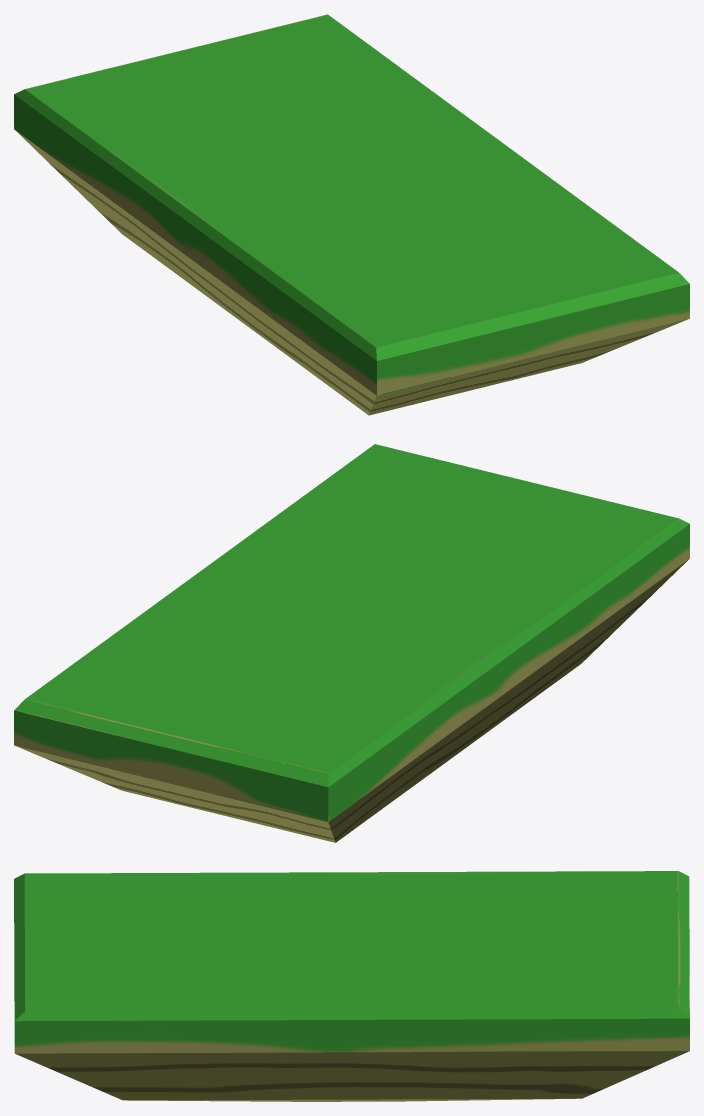
Rendered from plat2x4.obj.
3 renders of one model, top to bottom at view 1: azimuth 30°, elevation 25°; view 2: azimuth 150°, elevation 25°; view 3: azimuth 270°, elevation 25°, orthographic. The views are drawn at different scales.
Visible parts, largest first — view 1: Cube; view 2: Cube; view 3: Cube.
Part boxes in pixels (x1,y1,x2,y2): Cube: (14, 14, 689, 415); Cube: (14, 444, 689, 842); Cube: (14, 871, 689, 1101).
Bounding box in the file's own units: 4.02 × 1.99 × 8.01.
